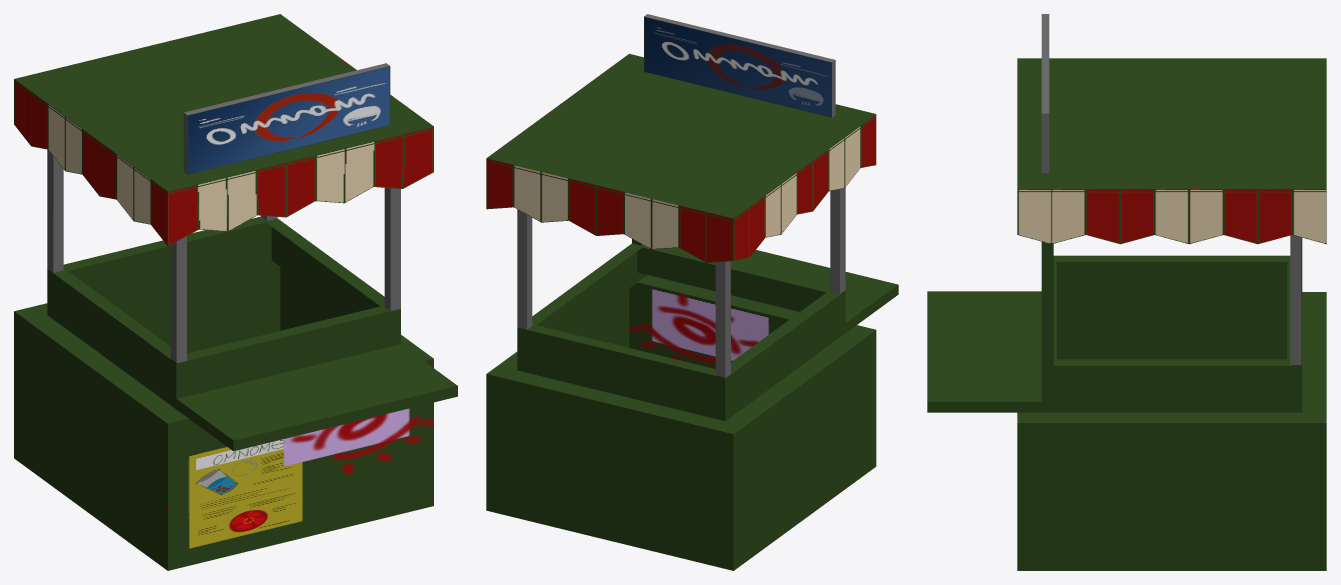
Rendered from foodStall.fbx.
3 views of the same model, side by side, from view 1: azimuth 30°, elevation 25°; view 2: azimuth 150°, elevation 25°; view 3: azimuth 270°, elevation 25° (orthographic). The views are drawn at different scales.
Parts seen in each view (by area): view 1: Base; view 2: Base; view 3: Base.
Part boxes in pixels (box(x1,y1,x2,y2)): Base: box(14, 14, 457, 570); Base: box(486, 14, 898, 570); Base: box(927, 14, 1326, 570).
Bounding box in the file's own units: 451 × 710 × 582.
Materials: 1 (1 with a texture image).
